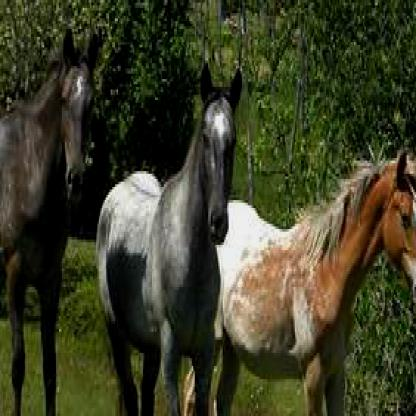horse: (183, 144, 415, 414), (93, 64, 242, 414), (1, 26, 99, 414)
